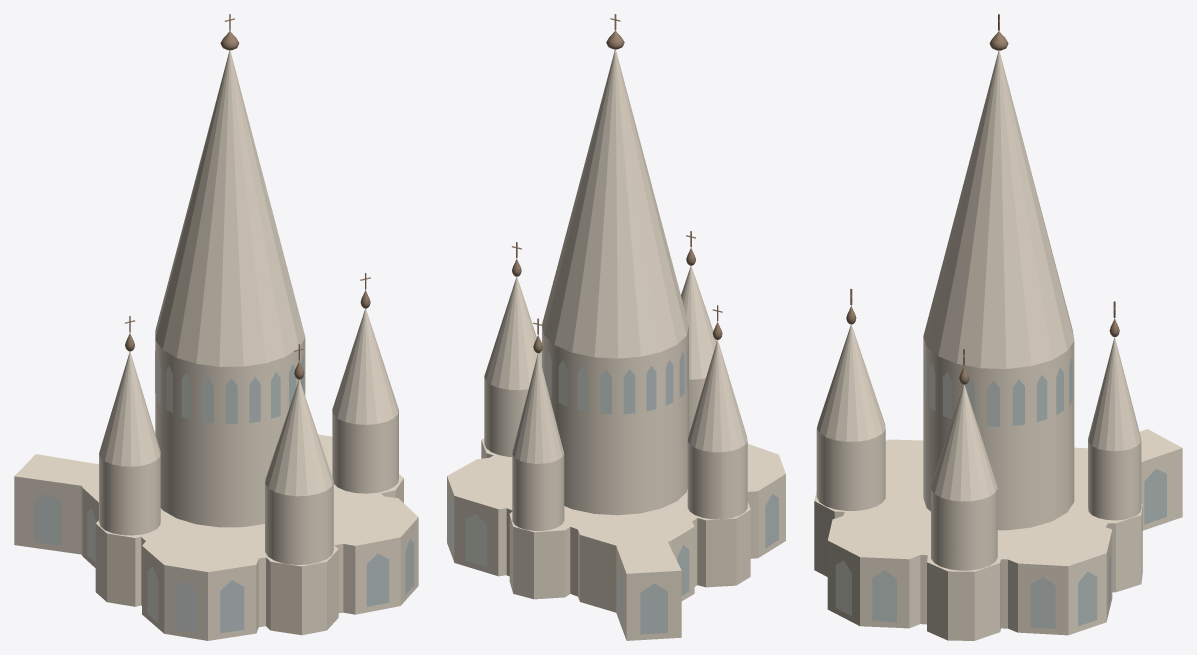
3 views of the same model, side by side, from view 1: azimuth 30°, elevation 25°; view 2: azimuth 150°, elevation 25°; view 3: azimuth 270°, elevation 25° (orthographic). The views are drawn at different scales.
Visible parts, largest first — view 1: stone, window, metal; view 2: stone, window, metal; view 3: stone, window, metal.
Part boxes in pixels (x1,y1,x2,y2): stone: [14, 50, 418, 640]; window: [34, 351, 414, 633]; metal: [125, 14, 370, 379]; stone: [447, 49, 785, 640]; window: [448, 342, 778, 634]; metal: [511, 14, 722, 353]; stone: [814, 50, 1182, 640]; window: [835, 354, 1166, 628]; metal: [846, 14, 1119, 384].
Size of the model in its own units: 26.59 by 48 by 28.97.
